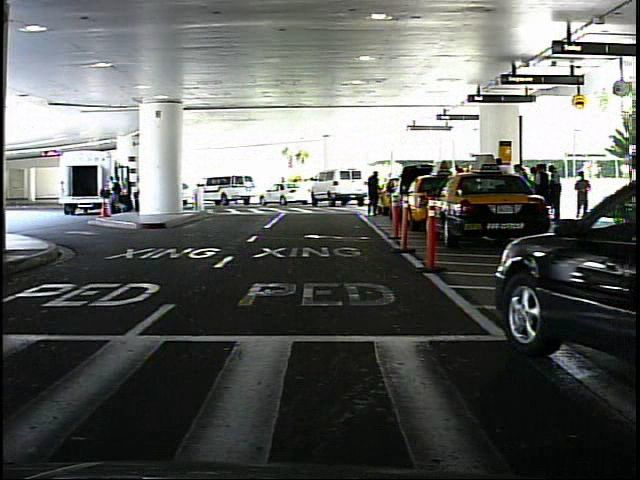person: (362, 164, 386, 220), (573, 167, 592, 219)
